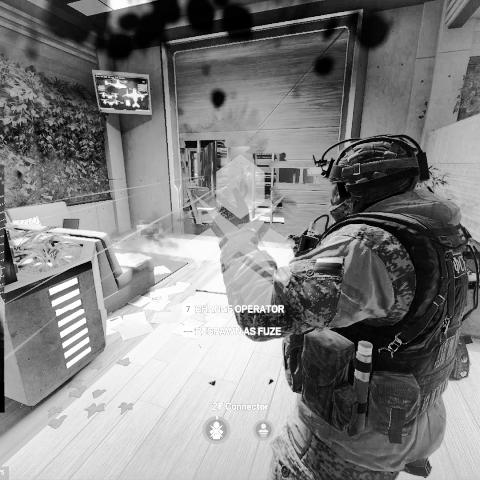Character: (210, 130, 480, 480), (237, 165, 252, 200)
Head: (318, 130, 434, 221), (246, 166, 252, 171)
